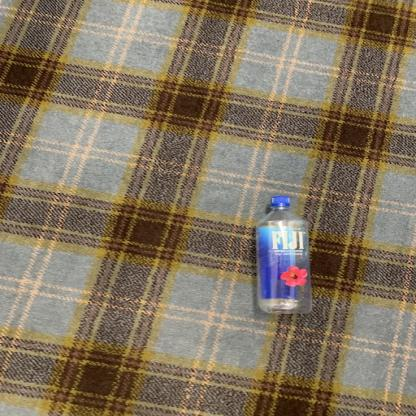trash: (258, 196, 316, 314)
